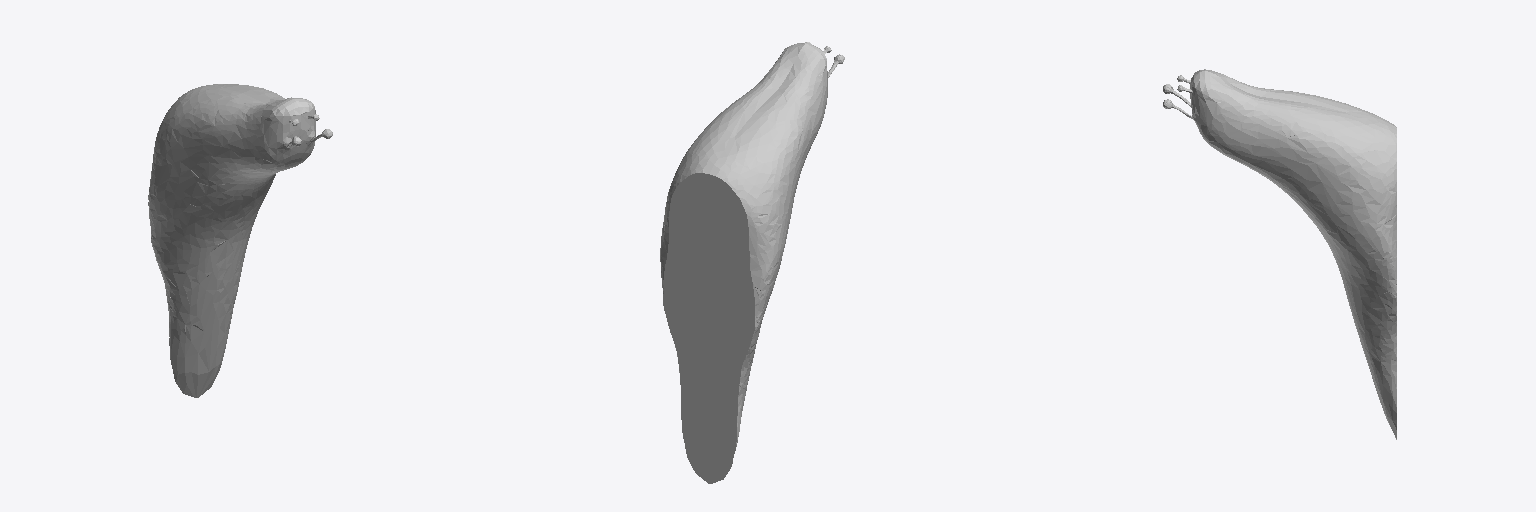
File: slug1.obj
3 views of the same model, side by side, from view 1: azimuth 30°, elevation 25°; view 2: azimuth 150°, elevation 25°; view 3: azimuth 270°, elevation 25° (orthographic).
Bounding box in the file's own units: 15.81 × 50.01 × 28.73.